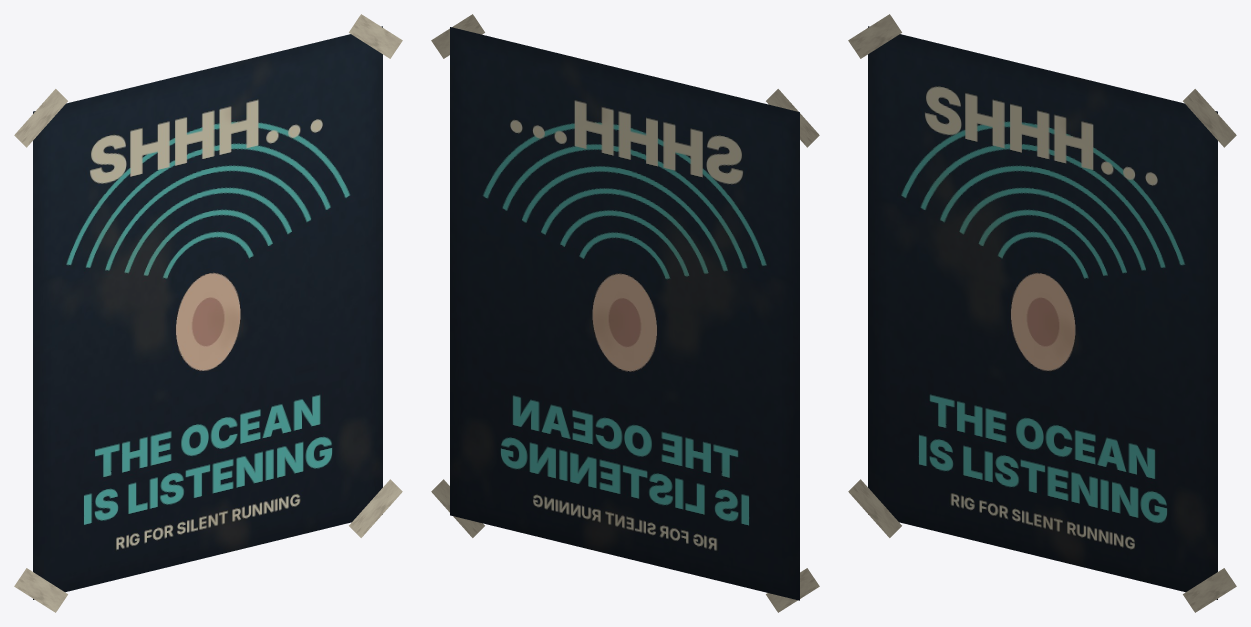
File: Poster_Quiet.glb
The picture shows the model from 3 angles, left to right: view 1: azimuth 30°, elevation 25°; view 2: azimuth 150°, elevation 25°; view 3: azimuth 330°, elevation 25°; orthographic projection.
Visible parts, largest first — view 1: Poster_Quiet_Body; view 2: Poster_Quiet_Body; view 3: Poster_Quiet_Body.
Boxes of the visible parts, x1,y1,x2,y2 form: Poster_Quiet_Body: (14,14,402,612); Poster_Quiet_Body: (431,14,819,612); Poster_Quiet_Body: (848,14,1236,612).
Bounding box in the file's own units: 0.4997 × 0.6441 × 0.001.
2 materials, 2 textured.
